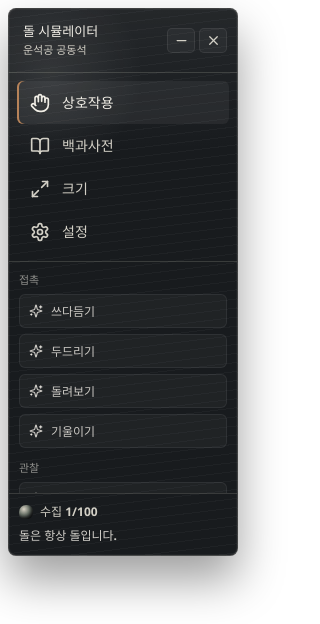
Test case: app UI › updates size controls in panel view
Click the button "크기".
click(123, 188)  # box [17,167,229,210]
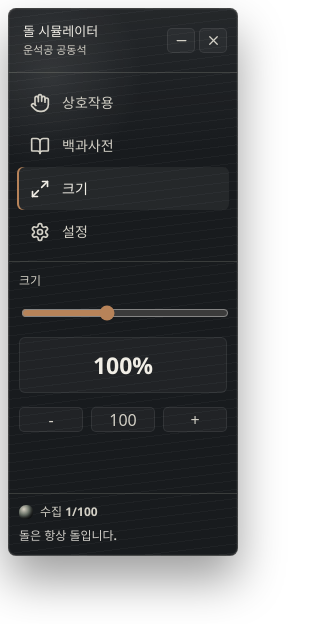
Result: the text "100%" is shown at [19,337,227,393]
Set the slider labelled "크기" to "1.5" at (178, 313), box [21,305,229,321]
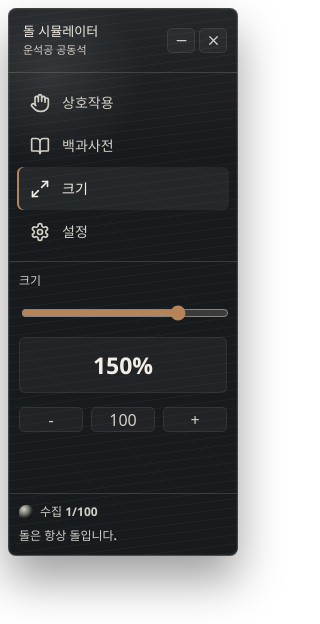
Result: the text "150%" is shown at [19,337,227,393]
